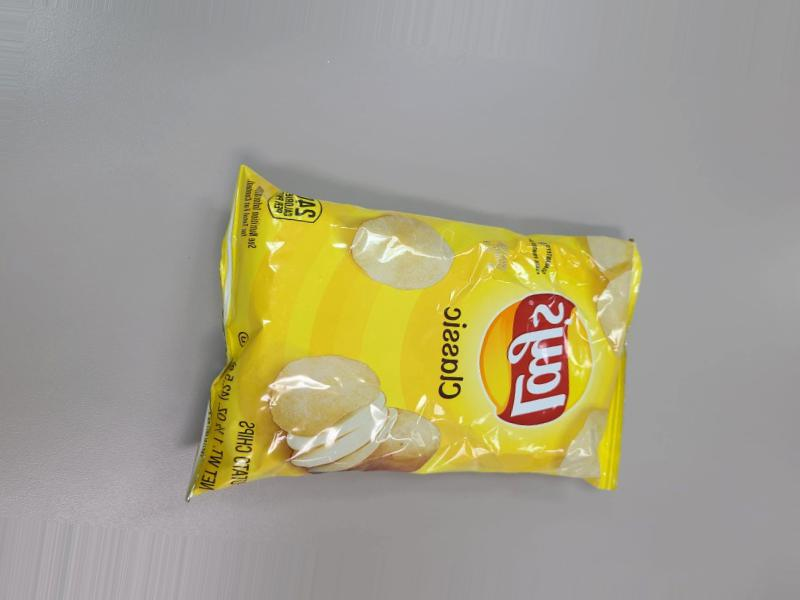lays: (184, 167, 617, 489)
